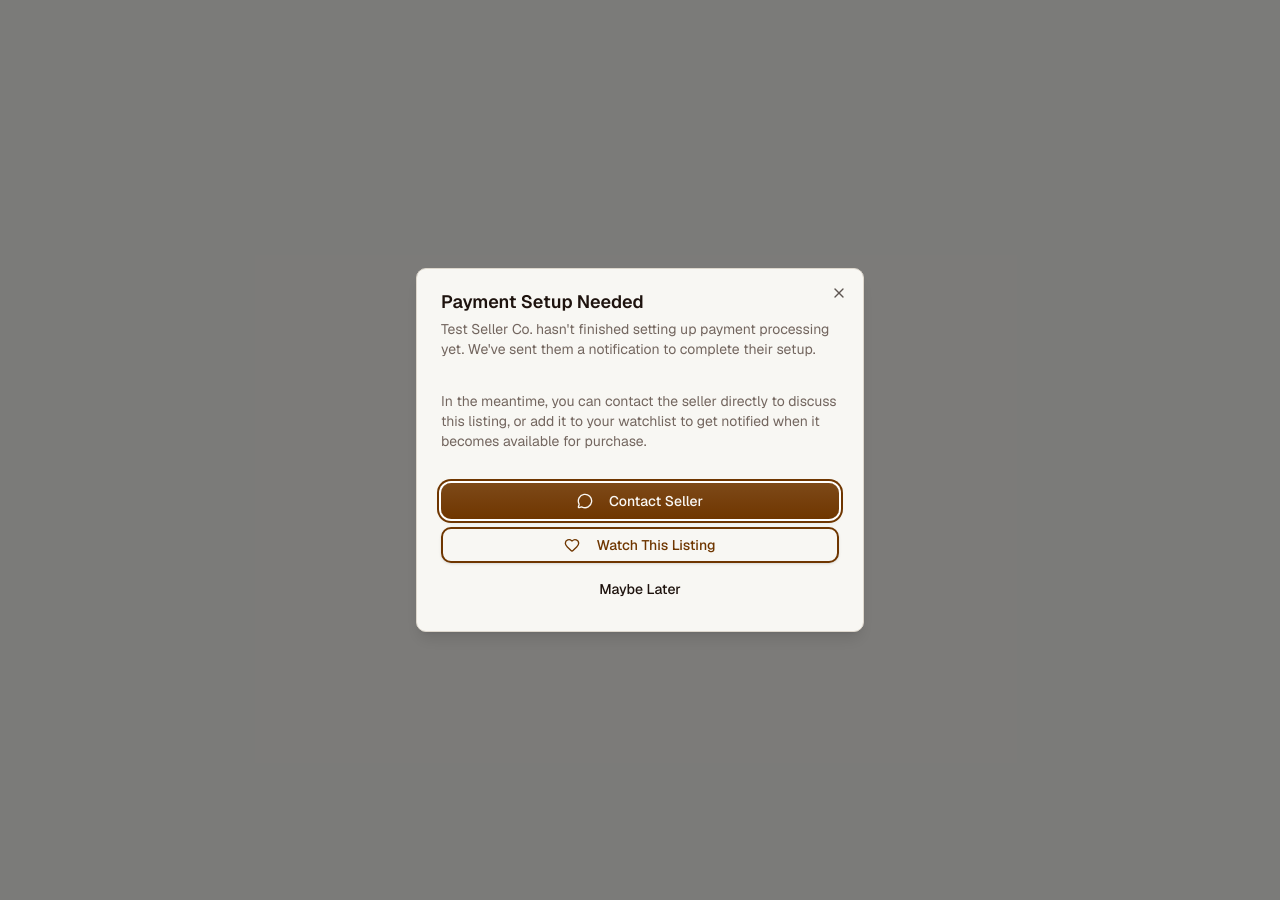
Test: SellerPaymentNotReadyDialog › disables buttons during loading
Click the button "Watch This Listing".
click(640, 545)  # box [441,527,839,563]
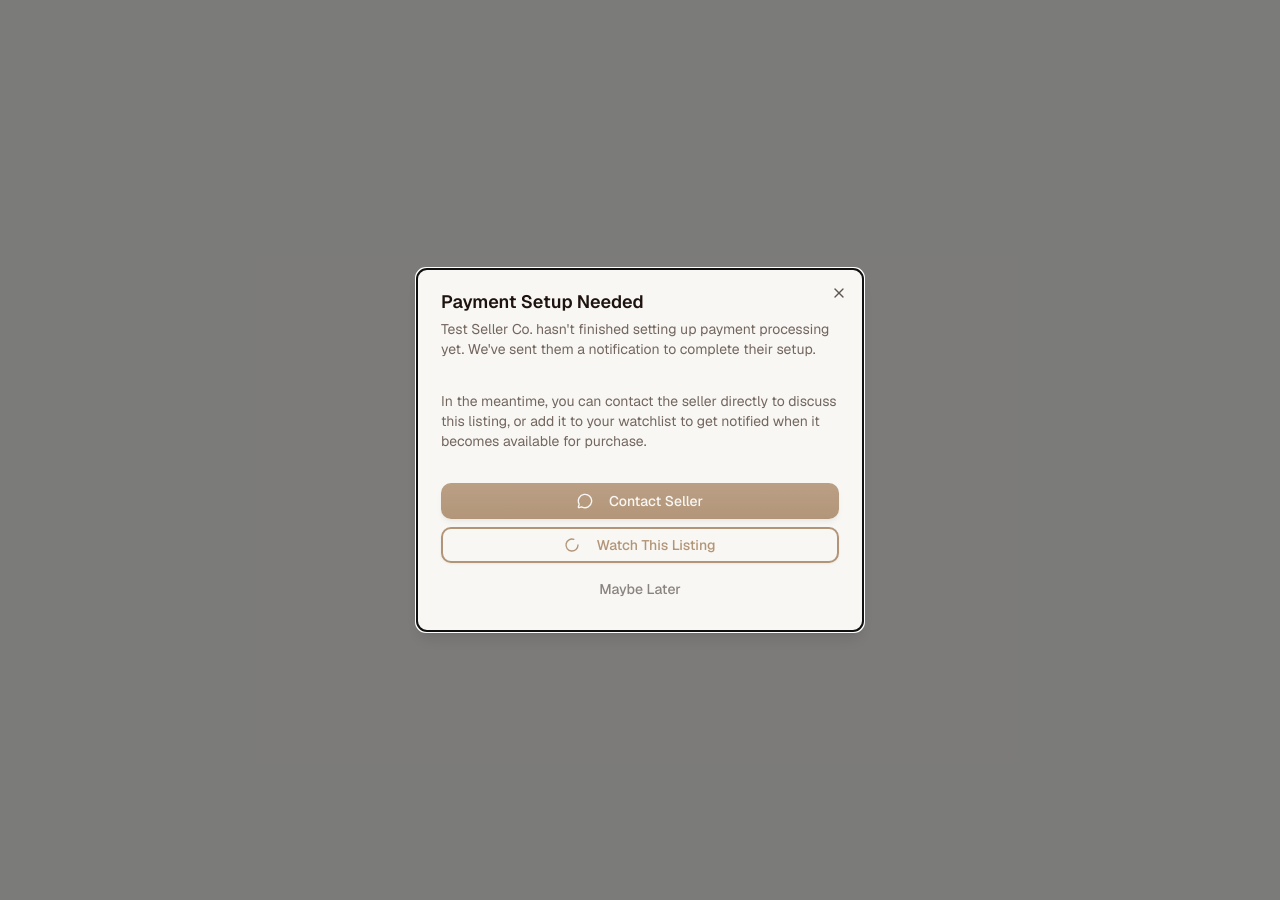
Expected: the button "Contact Seller" is disabled, [441,483,839,519]
Expected: the button "Watch This Listing" is disabled, [441,527,839,563]
Expected: the button "Maybe Later" is disabled, [441,571,839,607]
